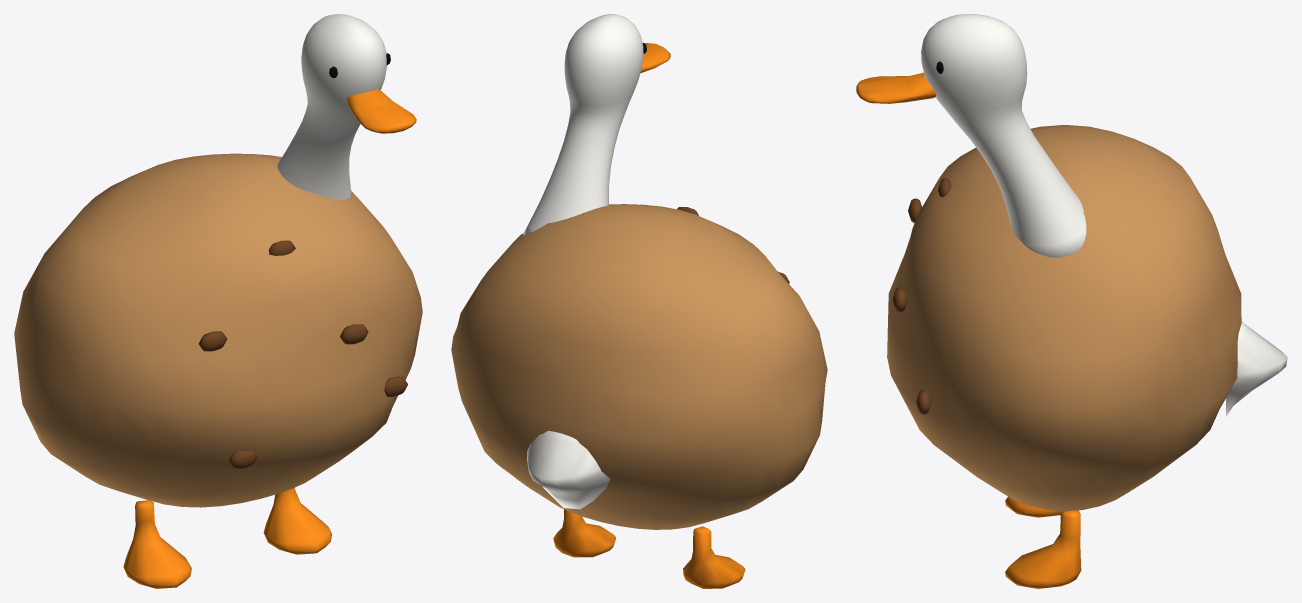
The model's file is duck-potato.glb.
3 renders of one model, left to right at view 1: azimuth 30°, elevation 25°; view 2: azimuth 150°, elevation 25°; view 3: azimuth 270°, elevation 25°, orthographic. The views are drawn at different scales.
Visible parts, largest first — view 1: duck-potato; view 2: duck-potato; view 3: duck-potato.
Boxes of the visible parts, left/top/right/bottom form: duck-potato: left=14, top=14, right=422, bottom=588; duck-potato: left=451, top=14, right=827, bottom=588; duck-potato: left=856, top=14, right=1287, bottom=588.
Size of the model in its own units: 0.7173 by 1 by 0.6869.
Materials: 1 (1 with a texture image).
